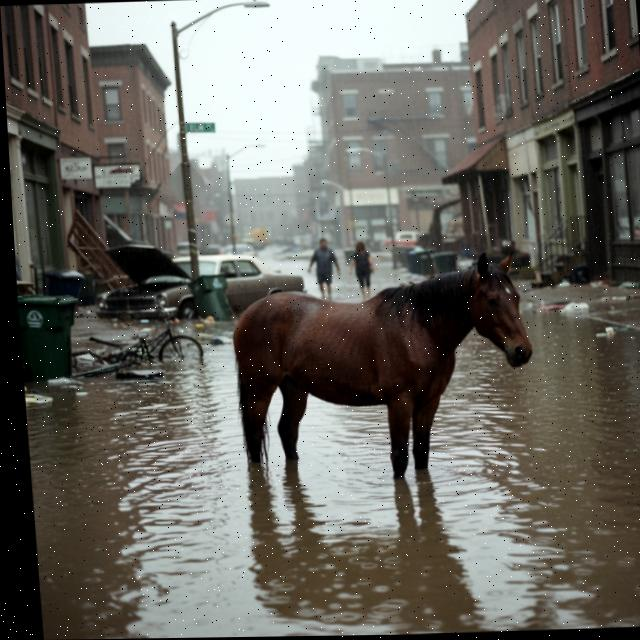civilian: (307, 233, 344, 304), (344, 238, 384, 303)
horse: (193, 239, 575, 508)
